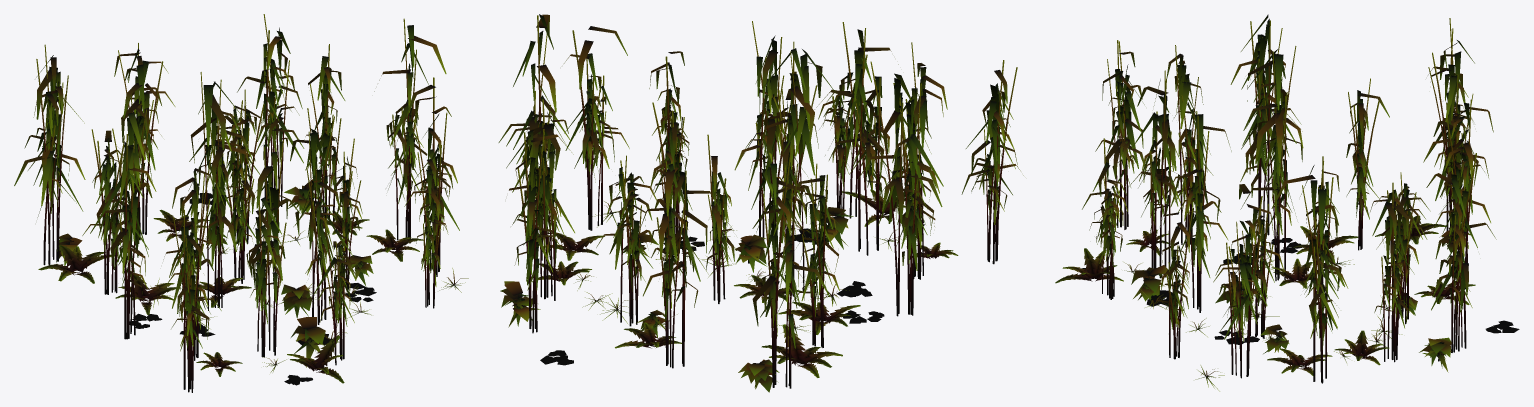
File: patch_bamboo_wall.glb
3 views of the same model, side by side, from view 1: azimuth 30°, elevation 25°; view 2: azimuth 150°, elevation 25°; view 3: azimuth 270°, elevation 25° (orthographic). The views are drawn at different scales.
Visible parts, largest first — view 1: patch_bamboo_wall; view 2: patch_bamboo_wall; view 3: patch_bamboo_wall.
Part boxes in pixels (box(x1,y1,x2,y2)): patch_bamboo_wall: box(14, 14, 468, 392); patch_bamboo_wall: box(498, 14, 1023, 392); patch_bamboo_wall: box(1055, 14, 1519, 391).
Size of the model in its own units: 15.9 by 10.1 by 17.54.
1 material, 1 textured.
